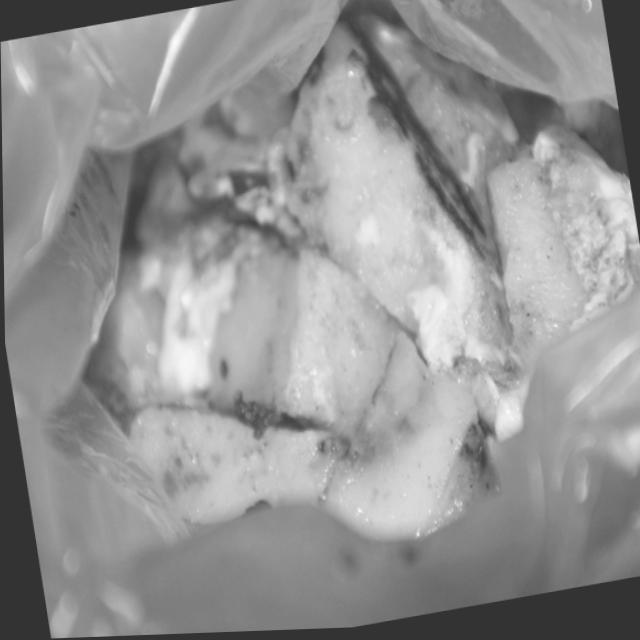蛋糕甜品: (41, 0, 640, 607)
